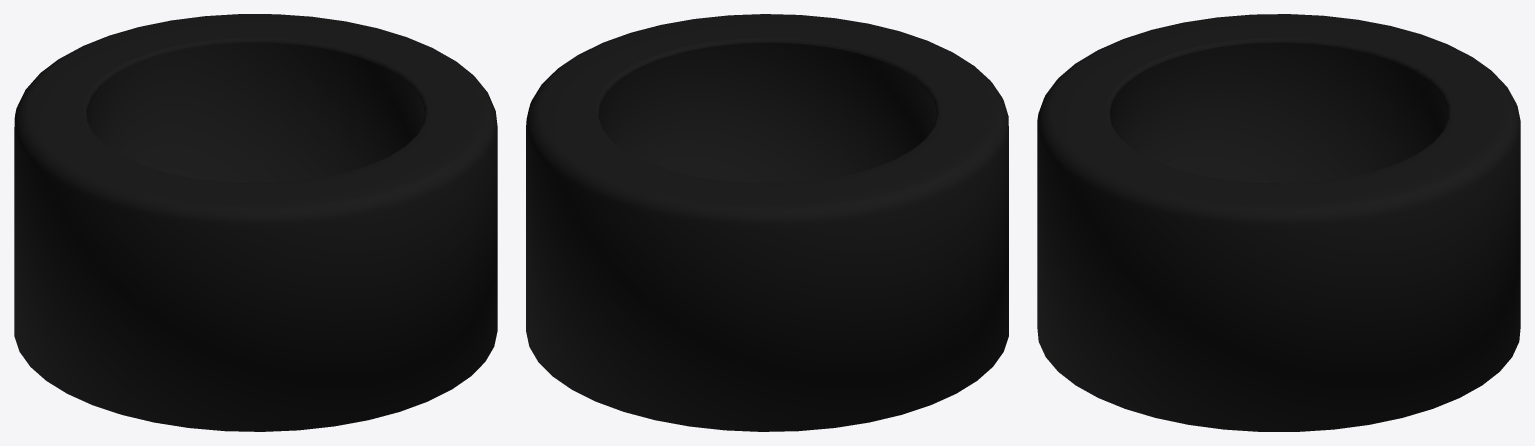
File: FrontWheel.obj
3 renders of one model, left to right at view 1: azimuth 30°, elevation 25°; view 2: azimuth 150°, elevation 25°; view 3: azimuth 270°, elevation 25°, orthographic.
Visible parts, largest first — view 1: FrontWheel; view 2: FrontWheel; view 3: FrontWheel.
Boxes of the visible parts, x1,y1,x2,y2 form: FrontWheel: [14, 14, 497, 431]; FrontWheel: [526, 14, 1008, 431]; FrontWheel: [1037, 14, 1520, 431].
Size of the model in its own units: 0.0599 by 0.03 by 0.06.
Materials: 1 (1 with a texture image).
